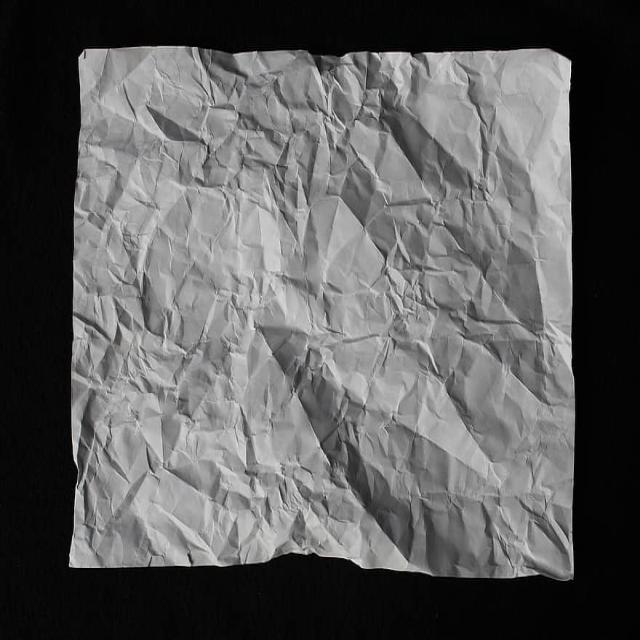paper: (49, 14, 598, 597)
